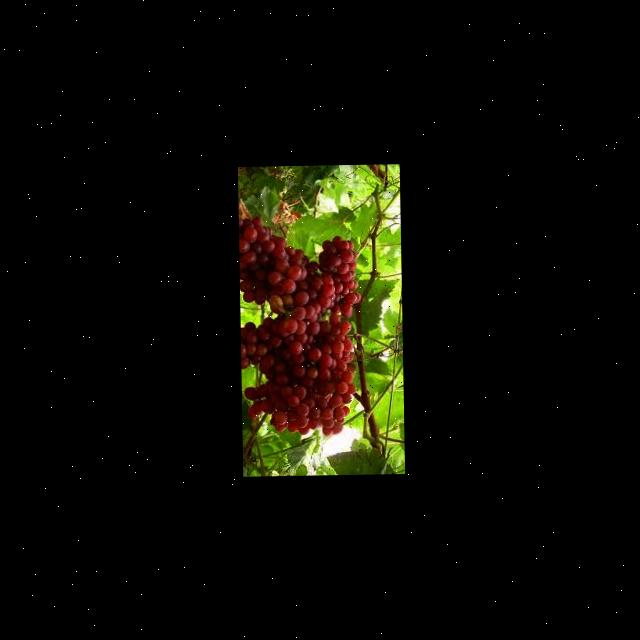grape: (238, 214, 363, 436)
